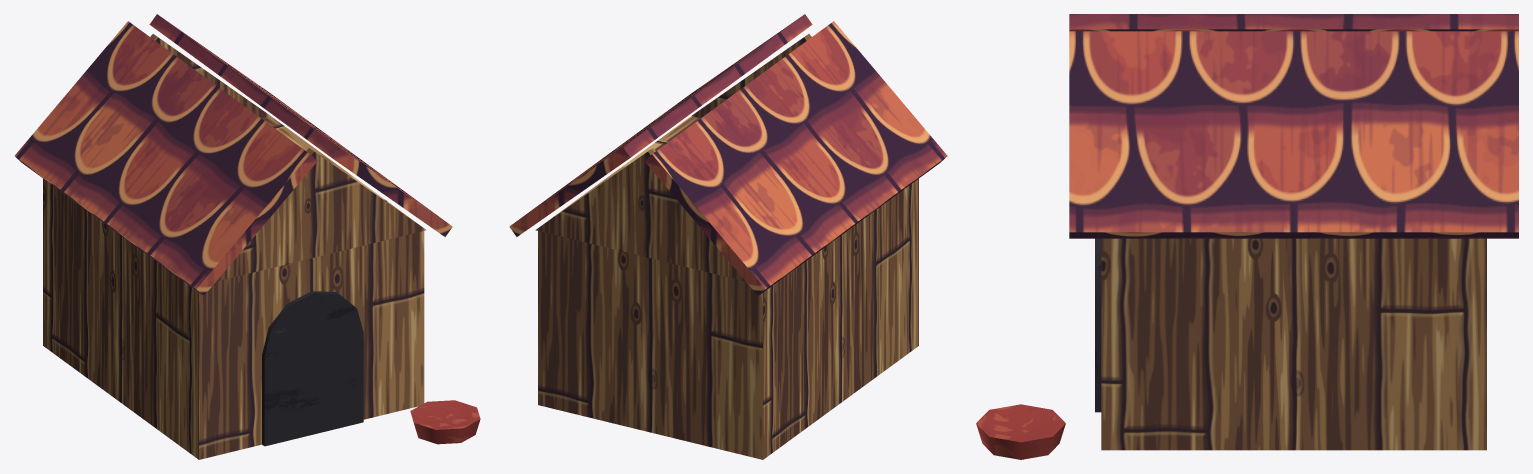
The model's file is doghouse.glb.
3 views of the same model, side by side, from view 1: azimuth 30°, elevation 25°; view 2: azimuth 150°, elevation 25°; view 3: azimuth 270°, elevation 25° (orthographic). The views are drawn at different scales.
Visible parts, largest first — view 1: Prop; view 2: Prop; view 3: Prop.
Boxes of the visible parts, x1,y1,x2,y2 form: Prop: [15, 14, 480, 459]; Prop: [509, 14, 947, 459]; Prop: [976, 14, 1518, 459].
Size of the model in its own units: 1.16 by 1.24 by 1.69.
Materials: 3 (3 with a texture image).
